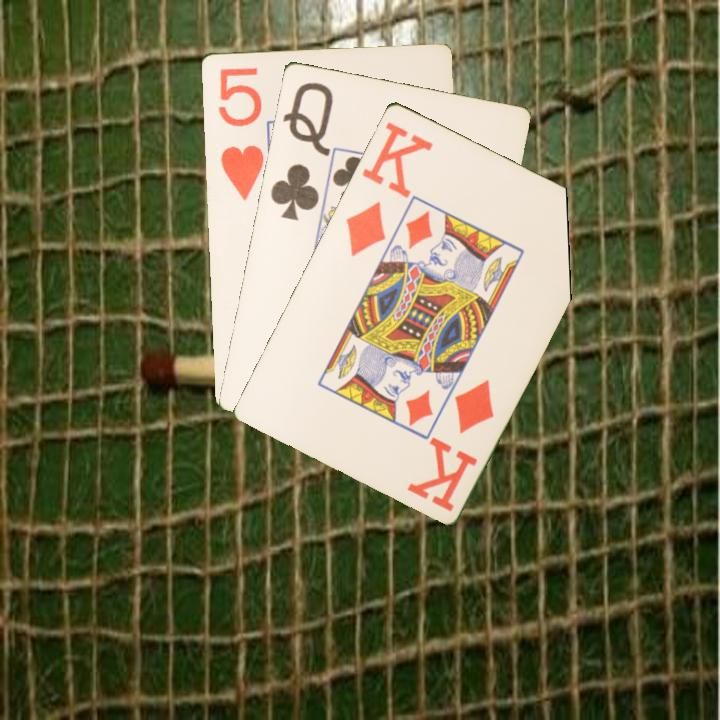5h: (214, 63, 266, 203)
Kd: (341, 117, 436, 259), (404, 375, 497, 514)
Qc: (266, 78, 336, 223)
